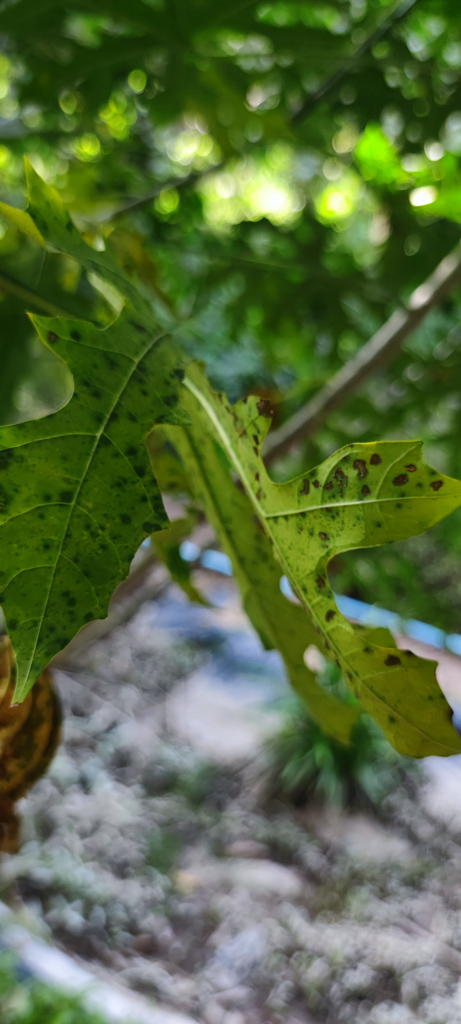Alternaria brassicicola: (205, 390, 460, 768), (12, 285, 196, 729)
